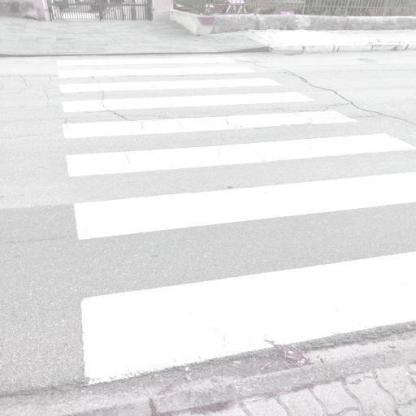crosswalk: (62, 168, 416, 388), (53, 90, 373, 144), (52, 48, 258, 80)
